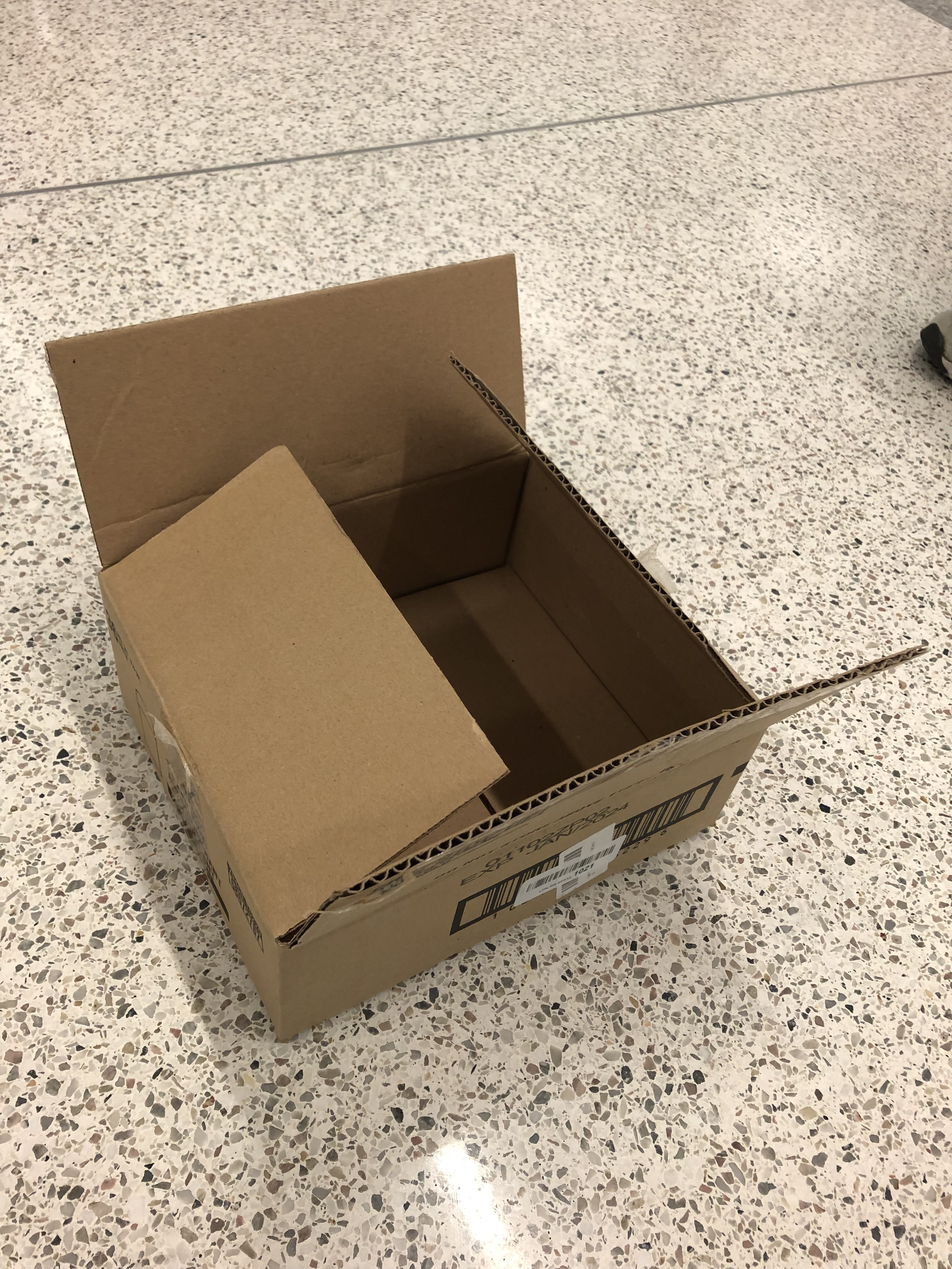box: (45, 249, 932, 1036)
crushed: (45, 250, 928, 950)
